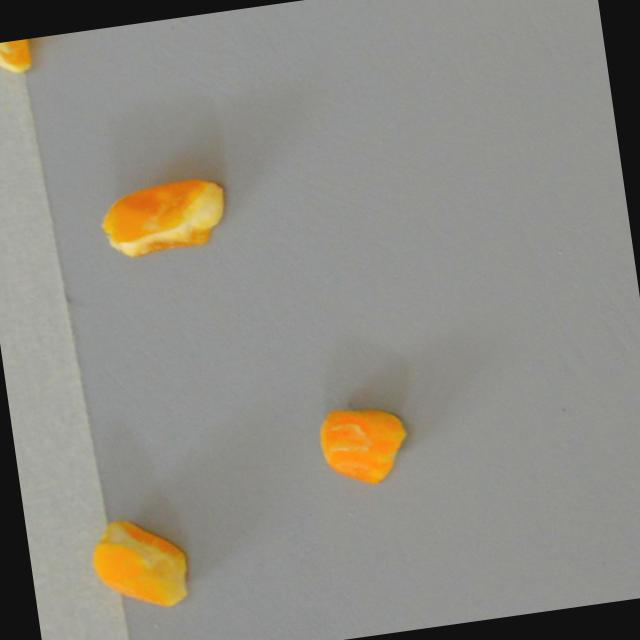dañado: (93, 170, 234, 264)
pelicula: (87, 506, 197, 617), (312, 398, 420, 494), (0, 38, 35, 74)
